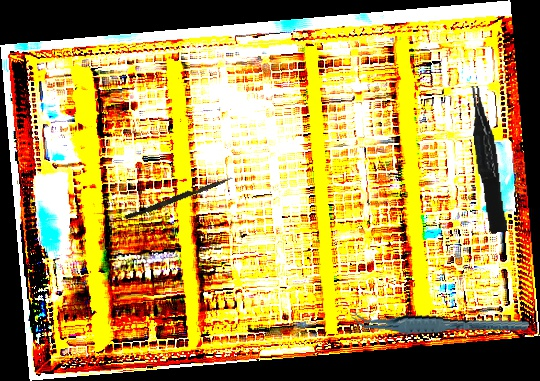Pusher: (124, 172, 234, 223)
Tissue Forceps: (349, 295, 530, 352), (468, 84, 508, 234)
